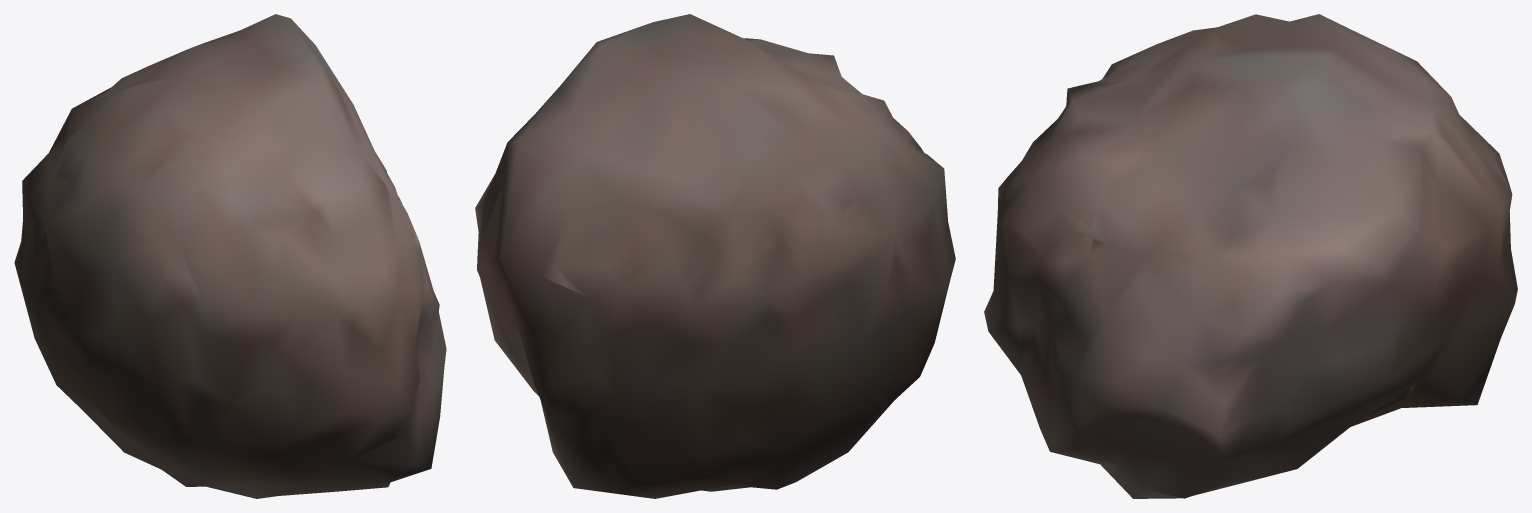
The model's file is stone.glb.
The picture shows the model from 3 angles, left to right: view 1: azimuth 30°, elevation 25°; view 2: azimuth 150°, elevation 25°; view 3: azimuth 270°, elevation 25°; orthographic projection. The views are drawn at different scales.
Visible parts, largest first — view 1: model; view 2: model; view 3: model.
Boxes of the visible parts, x1,y1,x2,y2 form: model: (14, 14, 446, 498); model: (475, 14, 955, 498); model: (984, 14, 1517, 498).
Bounding box in the file's own units: 0.3292 × 0.3614 × 0.3979.
1 material, 1 textured.
